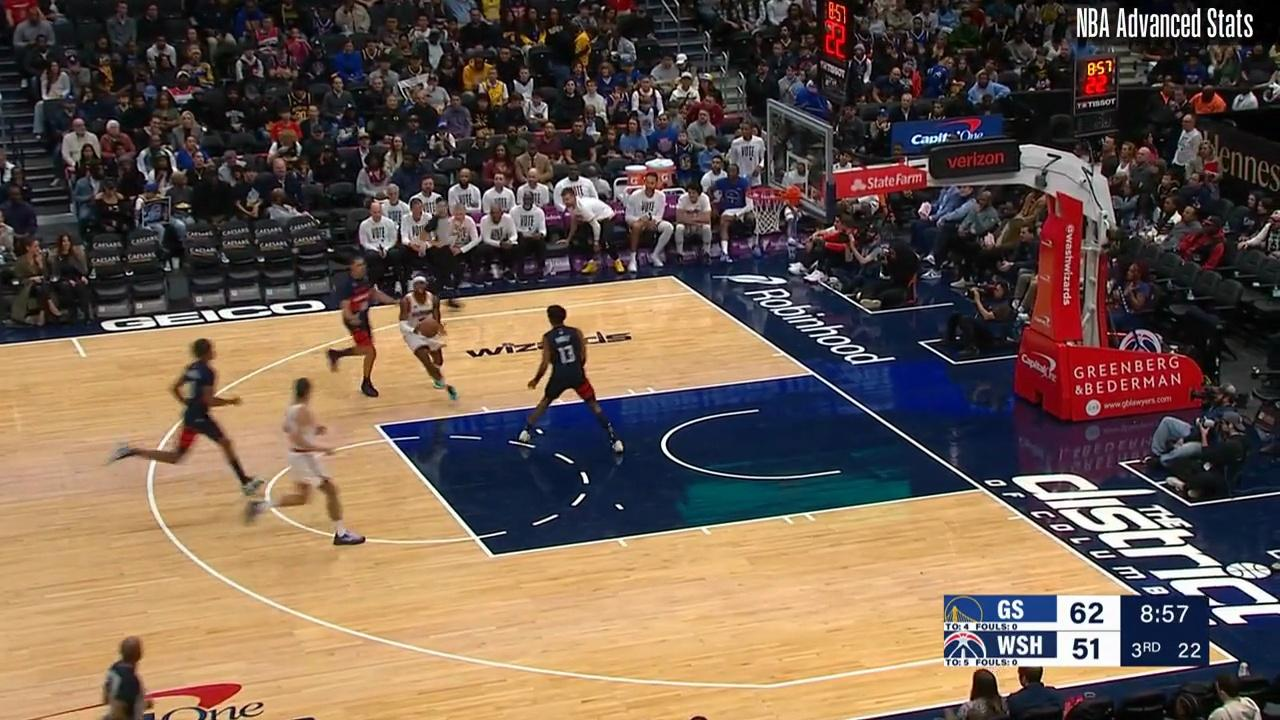basketball: (414, 315, 441, 337)
